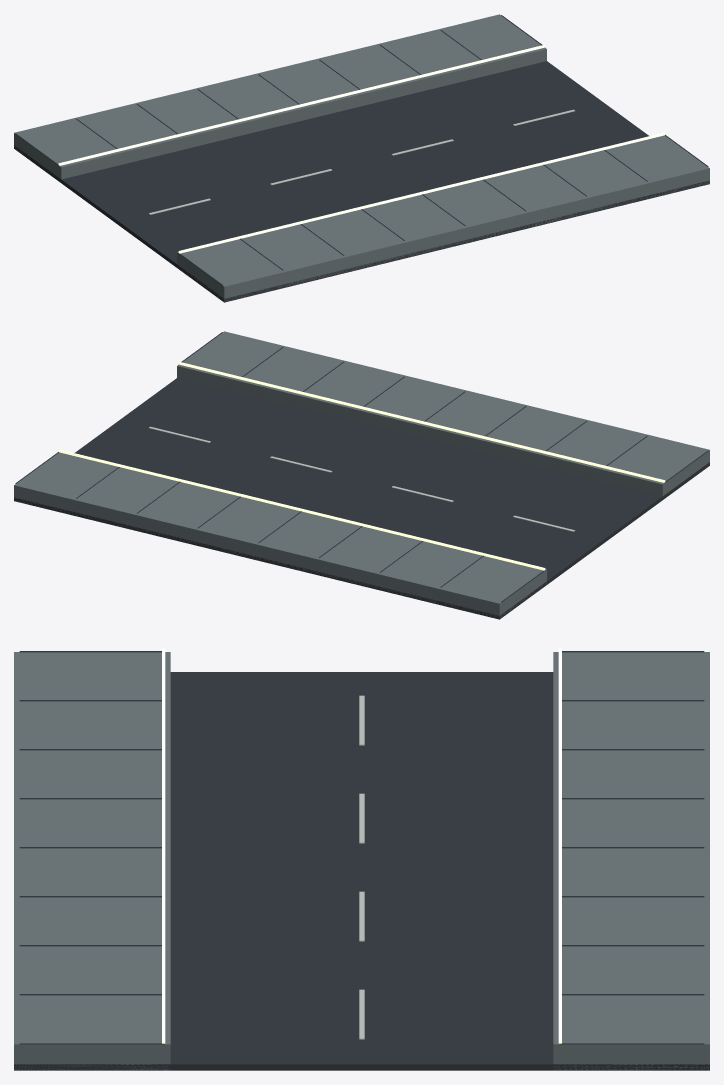
File: street-tile.lod1.glb
The picture shows the model from 3 angles, top to bottom: view 1: azimuth 30°, elevation 25°; view 2: azimuth 150°, elevation 25°; view 3: azimuth 270°, elevation 25°; orthographic projection. The views are drawn at different scales.
Visible parts, largest first — view 1: structure; view 2: structure; view 3: structure.
Part boxes in pixels (x1=…): structure: x1=14, y1=14, x2=709, y2=302; structure: x1=14, y1=331, x2=709, y2=619; structure: x1=14, y1=648, x2=709, y2=1070.
Bounding box in the file's own units: 16.03 × 0.57 × 12.
